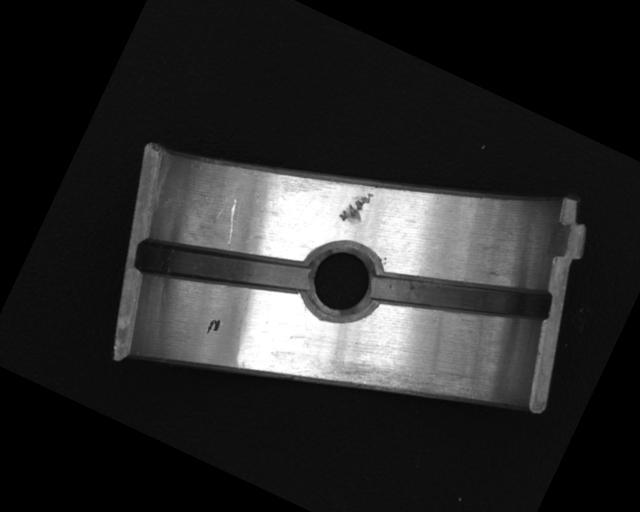blot: (203, 315, 223, 337)
bruise: (337, 183, 376, 229)
gap: (367, 225, 554, 367), (132, 200, 312, 334)
hole: (292, 231, 391, 333)
nick: (213, 195, 249, 247)
scratch: (317, 315, 485, 444)
